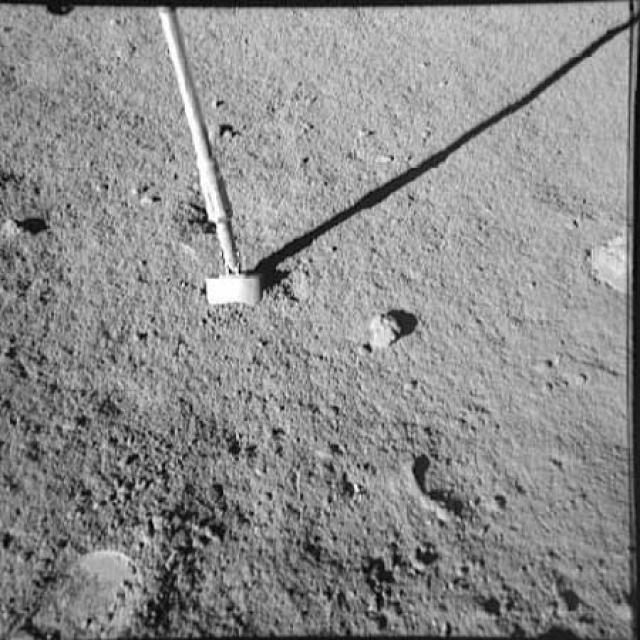rock: (350, 305, 410, 362), (0, 210, 47, 241), (204, 120, 243, 144)
